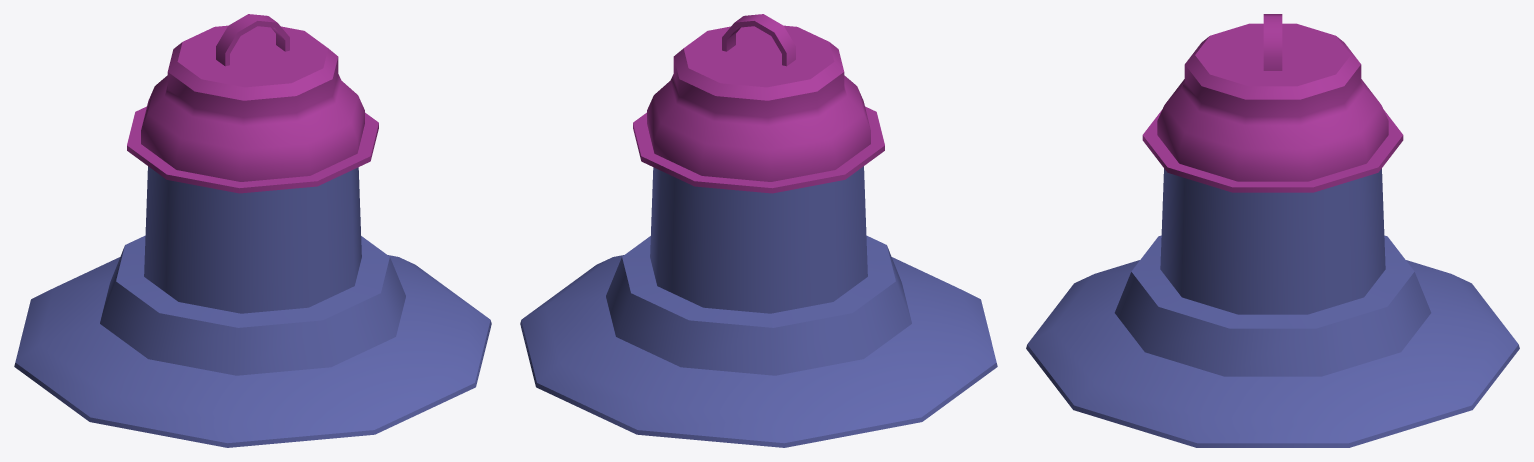
File: light1.fbx
The picture shows the model from 3 angles, left to right: view 1: azimuth 30°, elevation 25°; view 2: azimuth 150°, elevation 25°; view 3: azimuth 270°, elevation 25°; orthographic projection.
Parts seen in each view (by area): view 1: luminaire1; view 2: luminaire1; view 3: luminaire1.
Part boxes in pixels (x1,y1,x2,y2): luminaire1: [14, 14, 491, 447]; luminaire1: [520, 14, 997, 447]; luminaire1: [1026, 14, 1519, 447].
Size of the model in its own units: 130 by 130 by 137.
